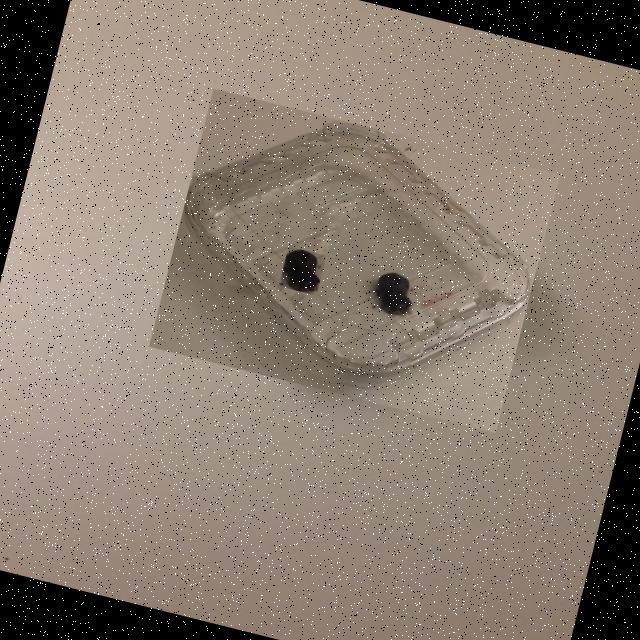Disposable food container: (185, 121, 531, 398)
Food waste: (286, 250, 319, 291)
